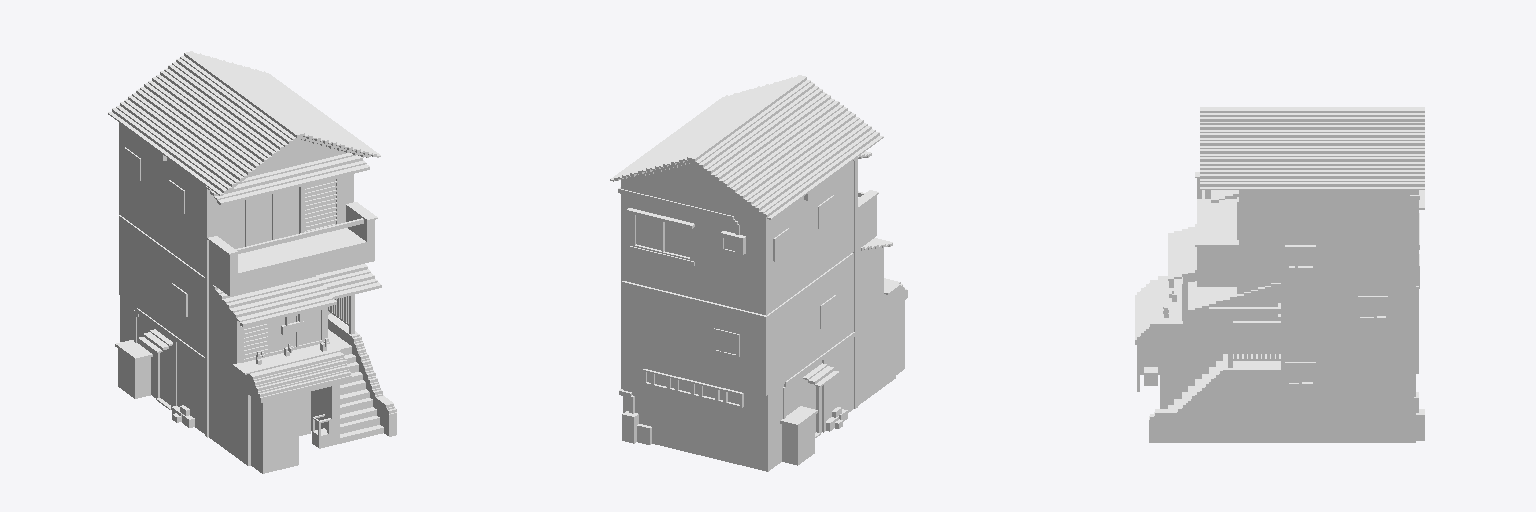
Rendered from GDS2_Build1-2.obj.
The picture shows the model from 3 angles: view 1: azimuth 30°, elevation 25°; view 2: azimuth 150°, elevation 25°; view 3: azimuth 270°, elevation 25°; orthographic projection.
Parts seen in each view (by area): view 1: GDS2_Build1-2; view 2: GDS2_Build1-2; view 3: GDS2_Build1-2.
Part boxes in pixels (x1,y1,x2,y2): GDS2_Build1-2: (108, 51, 396, 473); GDS2_Build1-2: (610, 75, 907, 471); GDS2_Build1-2: (1135, 107, 1424, 442).
Bounding box in the file's own units: 12.7 × 21.3 × 18.7.